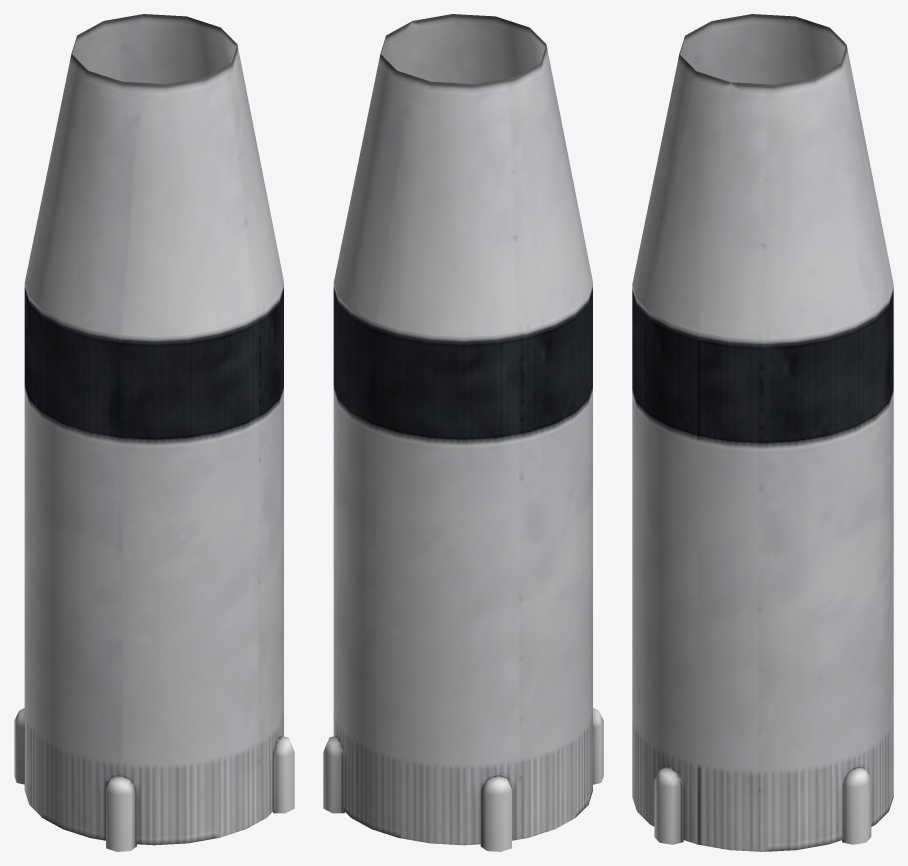
File: saturn_v_2_dis.glb
The picture shows the model from 3 angles, left to right: view 1: azimuth 30°, elevation 25°; view 2: azimuth 150°, elevation 25°; view 3: azimuth 270°, elevation 25°; orthographic projection.
Parts seen in each view (by area): view 1: polySurface1238; view 2: polySurface1238; view 3: polySurface1238.
Boxes of the visible parts, x1,y1,x2,y2 form: polySurface1238: [14, 14, 294, 851]; polySurface1238: [323, 14, 603, 851]; polySurface1238: [632, 14, 893, 851].
Size of the model in its own units: 7.12 by 22.52 by 7.12.
Materials: 1 (1 with a texture image).
